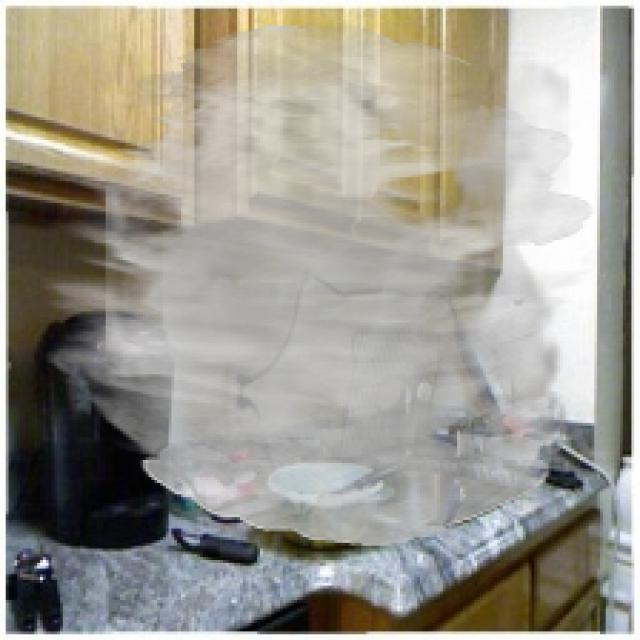Smoke: (39, 23, 594, 546)
